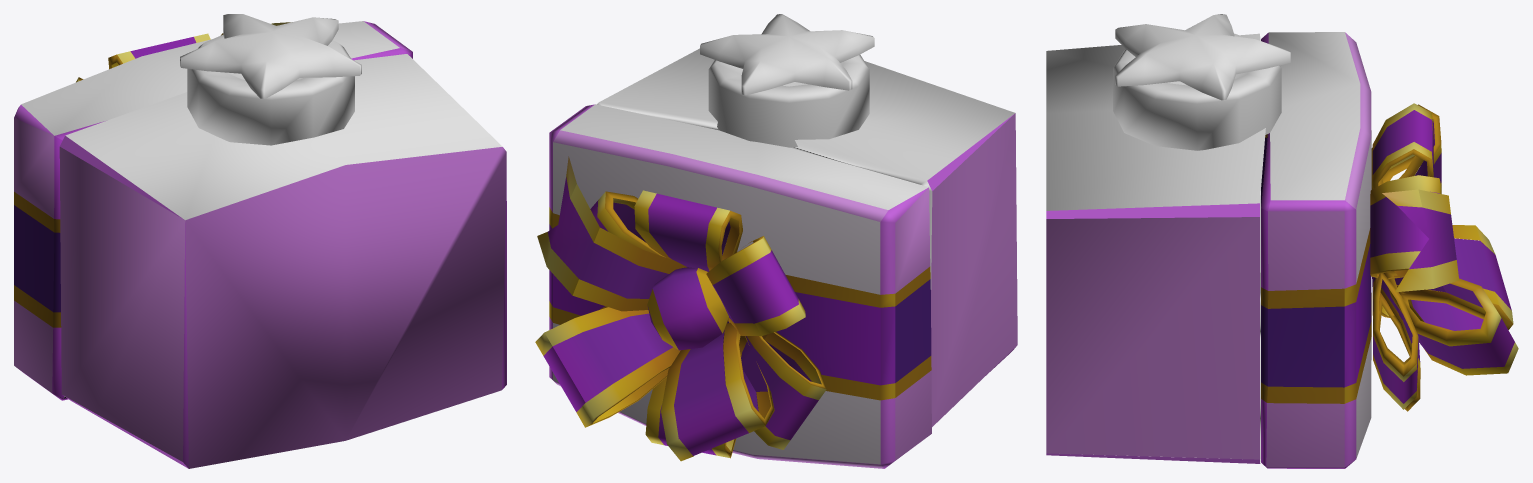
The model's file is QuestRewardBoxCadence.fbx.
The picture shows the model from 3 angles, left to right: view 1: azimuth 30°, elevation 25°; view 2: azimuth 150°, elevation 25°; view 3: azimuth 270°, elevation 25°; orthographic projection. The views are drawn at different scales.
Parts seen in each view (by area): view 1: QuestRewardBoxCadence, QuestRewardBoxLidCadence; view 2: QuestRewardBoxLidCadence, QuestRewardBoxCadence; view 3: QuestRewardBoxCadence, QuestRewardBoxLidCadence.
Part boxes in pixels (<box>): QuestRewardBoxCadence: <box>59,14,506,468</box>; QuestRewardBoxLidCadence: <box>14,21,412,400</box>; QuestRewardBoxLidCadence: <box>535,104,931,468</box>; QuestRewardBoxCadence: <box>597,14,1017,426</box>; QuestRewardBoxCadence: <box>1046,14,1290,463</box>; QuestRewardBoxLidCadence: <box>1261,32,1518,468</box>.
Bounding box in the file's own units: 59.16 × 57.73 × 66.68.
